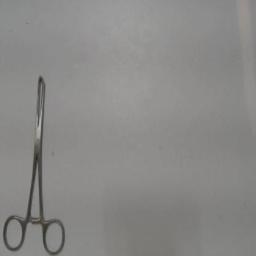Allis Tissue Forceps: (0, 66, 68, 254)
